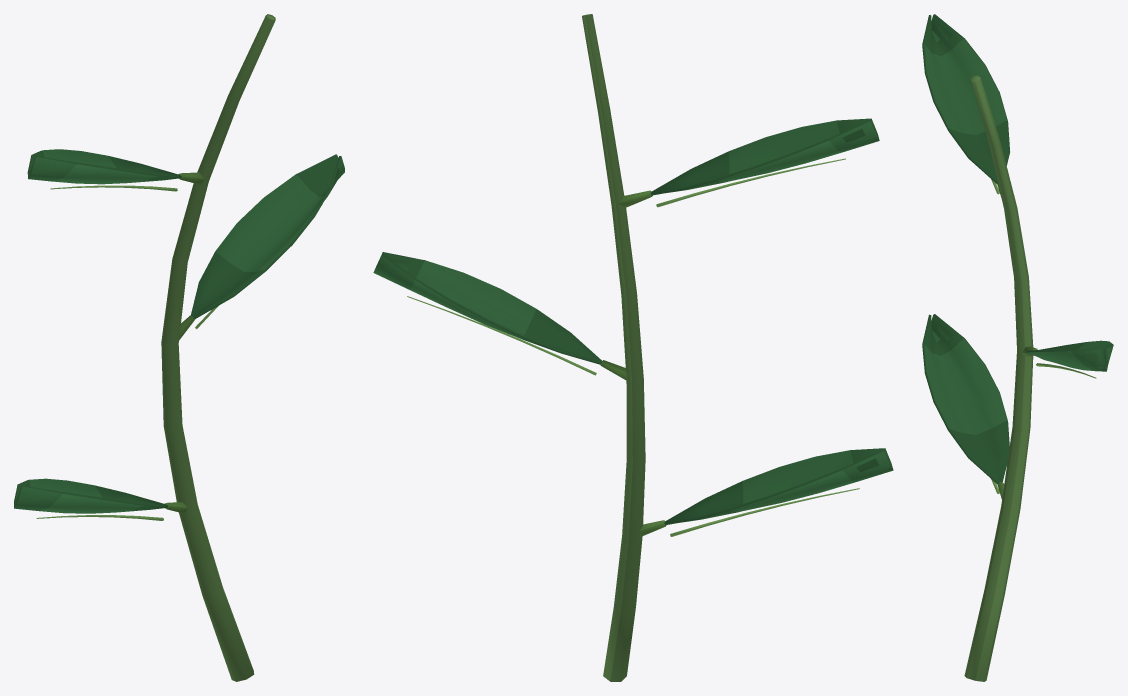
The model's file is garden-rose-bloom-stem-1.glb.
The picture shows the model from 3 angles, left to right: view 1: azimuth 30°, elevation 25°; view 2: azimuth 150°, elevation 25°; view 3: azimuth 270°, elevation 25°; orthographic projection. The views are drawn at different scales.
Parts seen in each view (by area): view 1: rose-bloom-stem-1; view 2: rose-bloom-stem-1; view 3: rose-bloom-stem-1.
Part boxes in pixels (x1,y1,x2,y2): rose-bloom-stem-1: [14, 14, 344, 681]; rose-bloom-stem-1: [373, 14, 893, 681]; rose-bloom-stem-1: [922, 14, 1113, 681].
Bounding box in the file's own units: 0.278 × 0.4108 × 0.1156.
